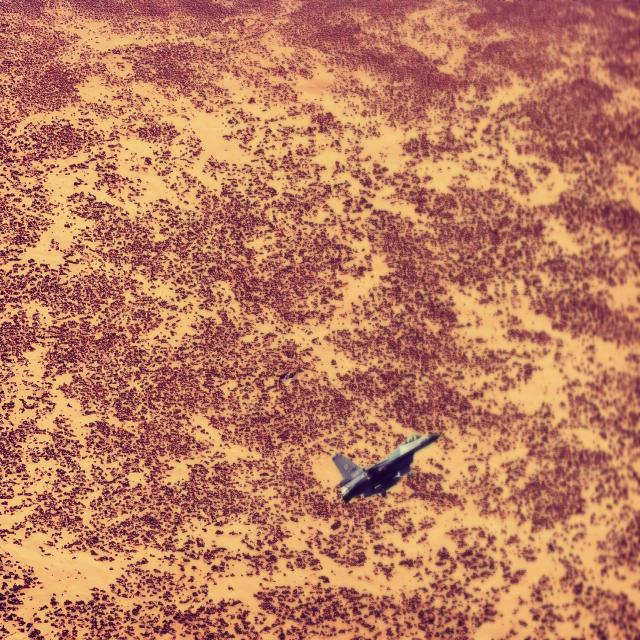airplane: (332, 431, 441, 504)
